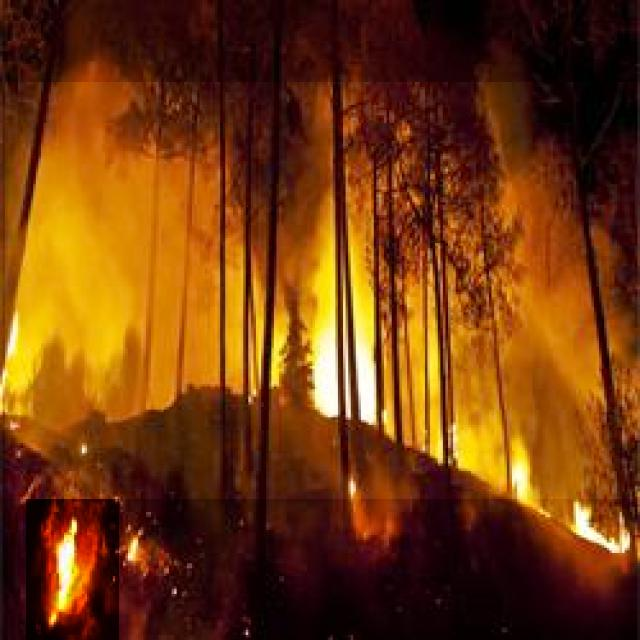Fire: (26, 475, 119, 640), (289, 266, 378, 432)
Smoke: (5, 82, 640, 499)
